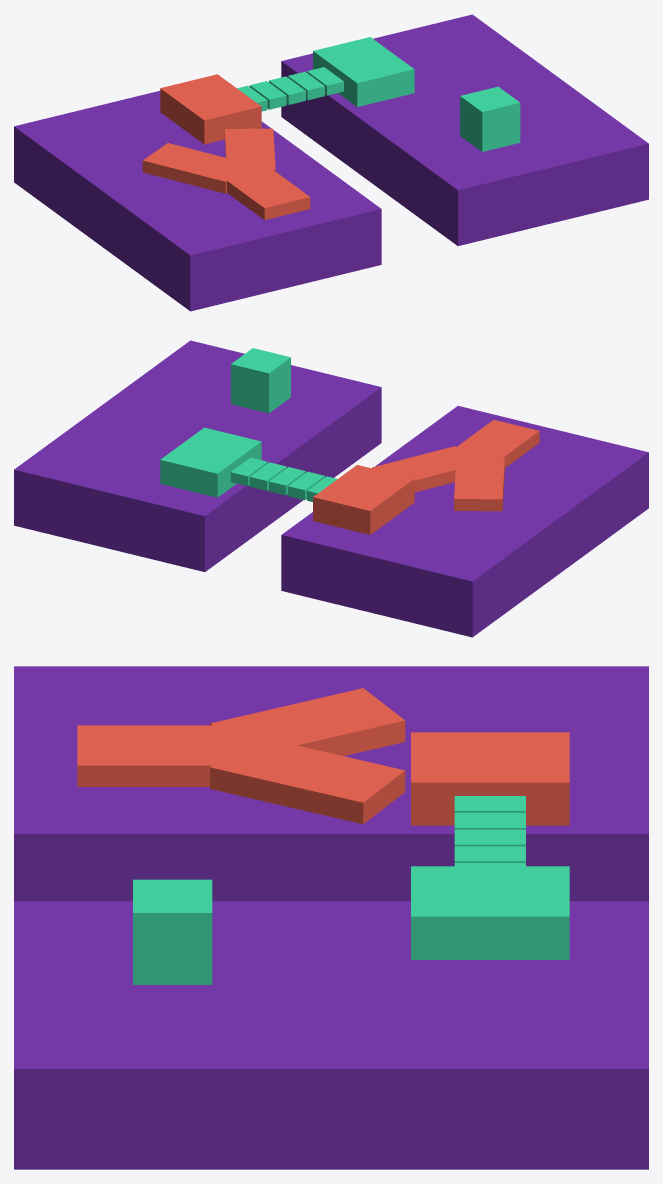
Rendered from divergence_island.glb.
3 views of the same model, one above another, from view 1: azimuth 30°, elevation 25°; view 2: azimuth 150°, elevation 25°; view 3: azimuth 270°, elevation 25° (orthographic). The views are drawn at different scales.
Visible parts, largest first — view 1: GY_divergence_riftEast_LOD0, GY_divergence_riftWest_LOD0, GY_divergence_opposedWest_LOD0, GY_divergence_opposedEast_LOD0, GY_divergence_connector_LOD0, GY_divergence_forkLeft_LOD0, GY_divergence_forkStem_LOD0, GY_divergence_forkRight_LOD0, GY_divergence_bridge1_LOD0, GY_divergence_bridge2_LOD0, GY_divergence_bridge3_LOD0, GY_divergence_bridge4_LOD0; view 2: GY_divergence_riftEast_LOD0, GY_divergence_riftWest_LOD0, GY_divergence_opposedWest_LOD0, GY_divergence_opposedEast_LOD0, GY_divergence_connector_LOD0, GY_divergence_forkStem_LOD0, GY_divergence_forkLeft_LOD0, GY_divergence_forkRight_LOD0, GY_divergence_bridge3_LOD0, GY_divergence_bridge4_LOD0, GY_divergence_bridge1_LOD0, GY_divergence_bridge2_LOD0; view 3: GY_divergence_riftEast_LOD0, GY_divergence_riftWest_LOD0, GY_divergence_opposedEast_LOD0, GY_divergence_opposedWest_LOD0, GY_divergence_forkRight_LOD0, GY_divergence_forkStem_LOD0, GY_divergence_connector_LOD0, GY_divergence_forkLeft_LOD0, GY_divergence_bridge1_LOD0, GY_divergence_bridge2_LOD0, GY_divergence_bridge0_LOD0, GY_divergence_bridge3_LOD0.
Part boxes in pixels (x1,y1,x2,y2): GY_divergence_riftEast_LOD0: (281,14,648,245); GY_divergence_riftWest_LOD0: (14,91,381,311); GY_divergence_opposedWest_LOD0: (160,74,261,144); GY_divergence_opposedEast_LOD0: (313,37,414,106); GY_divergence_connector_LOD0: (460,86,520,151); GY_divergence_forkLeft_LOD0: (142,143,250,193); GY_divergence_forkStem_LOD0: (213,161,310,220); GY_divergence_forkRight_LOD0: (224,128,275,171); GY_divergence_bridge1_LOD0: (249,81,286,109); GY_divergence_bridge2_LOD0: (269,76,305,104); GY_divergence_bridge3_LOD0: (288,72,324,100); GY_divergence_bridge4_LOD0: (307,67,343,95); GY_divergence_riftEast_LOD0: (14,340,381,571); GY_divergence_riftWest_LOD0: (281,406,648,637); GY_divergence_opposedWest_LOD0: (313,465,414,534); GY_divergence_opposedEast_LOD0: (160,427,261,497); GY_divergence_connector_LOD0: (231,348,290,413); GY_divergence_forkStem_LOD0: (441,420,539,468); GY_divergence_forkLeft_LOD0: (454,458,504,511); GY_divergence_forkRight_LOD0: (372,446,479,492); GY_divergence_bridge3_LOD0: (249,462,286,490); GY_divergence_bridge4_LOD0: (230,457,267,486); GY_divergence_bridge1_LOD0: (288,471,324,500); GY_divergence_bridge2_LOD0: (269,467,305,495); GY_divergence_riftEast_LOD0: (14,901,648,1169); GY_divergence_riftWest_LOD0: (14,666,648,901); GY_divergence_opposedEast_LOD0: (411,866,569,959); GY_divergence_opposedWest_LOD0: (411,732,569,825); GY_divergence_forkRight_LOD0: (210,735,405,824); GY_divergence_forkStem_LOD0: (77,725,267,786); GY_divergence_connector_LOD0: (133,879,212,984); GY_divergence_forkLeft_LOD0: (210,688,405,755); GY_divergence_bridge1_LOD0: (454,812,525,829); GY_divergence_bridge2_LOD0: (454,829,525,846); GY_divergence_bridge0_LOD0: (454,796,525,812); GY_divergence_bridge3_LOD0: (454,846,525,862).
Bounding box in the file's own units: 12 × 2.4 × 8.
